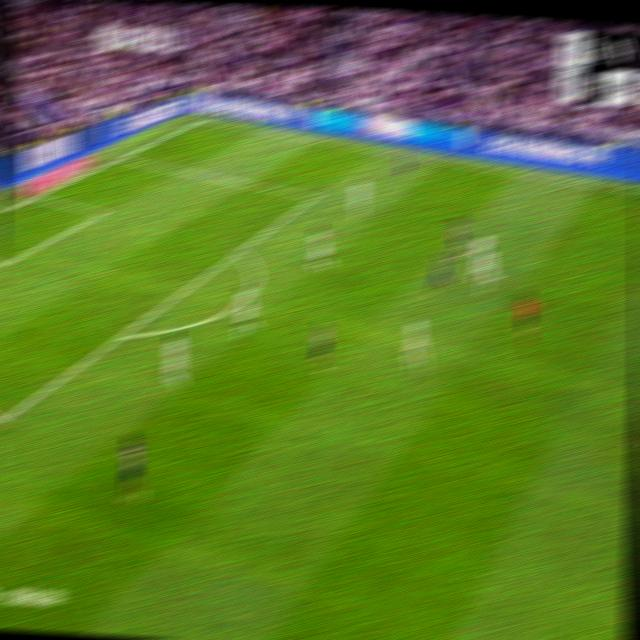bigarea_top_inner: (307, 188, 321, 204)
bigarea_top_outter: (113, 148, 130, 163)
bottom_arc_area_intersection: (113, 322, 132, 345)
corner: (197, 114, 212, 124)
smallarea_top_inner: (95, 204, 112, 219)
top_arc_area_intersection: (231, 241, 248, 257)
